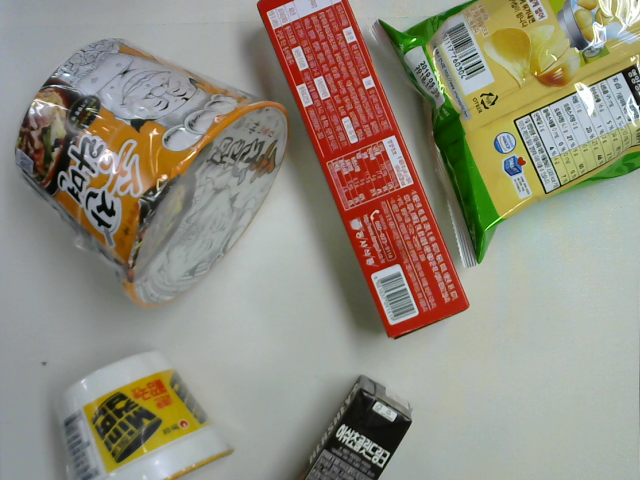Hejangchan: (13, 36, 294, 311)
Hejangmini: (51, 344, 233, 480)
Hush_Choco_Drink: (291, 371, 416, 480)
Pocachip_Onion: (367, 1, 640, 271)
Ritz_Cracker: (251, 1, 472, 344)
